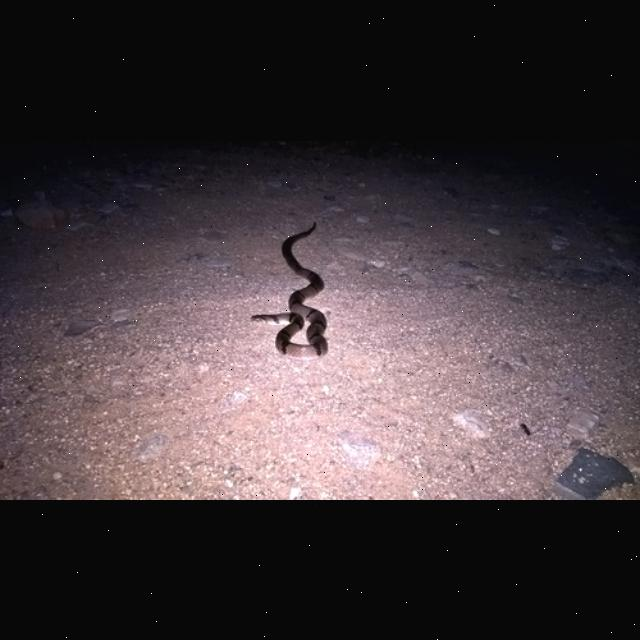snake: (250, 214, 336, 366)
